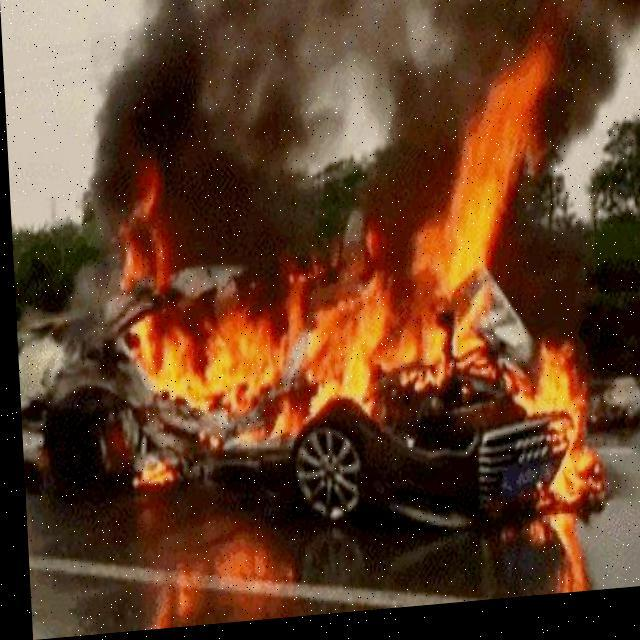Fire: (86, 47, 606, 556)
